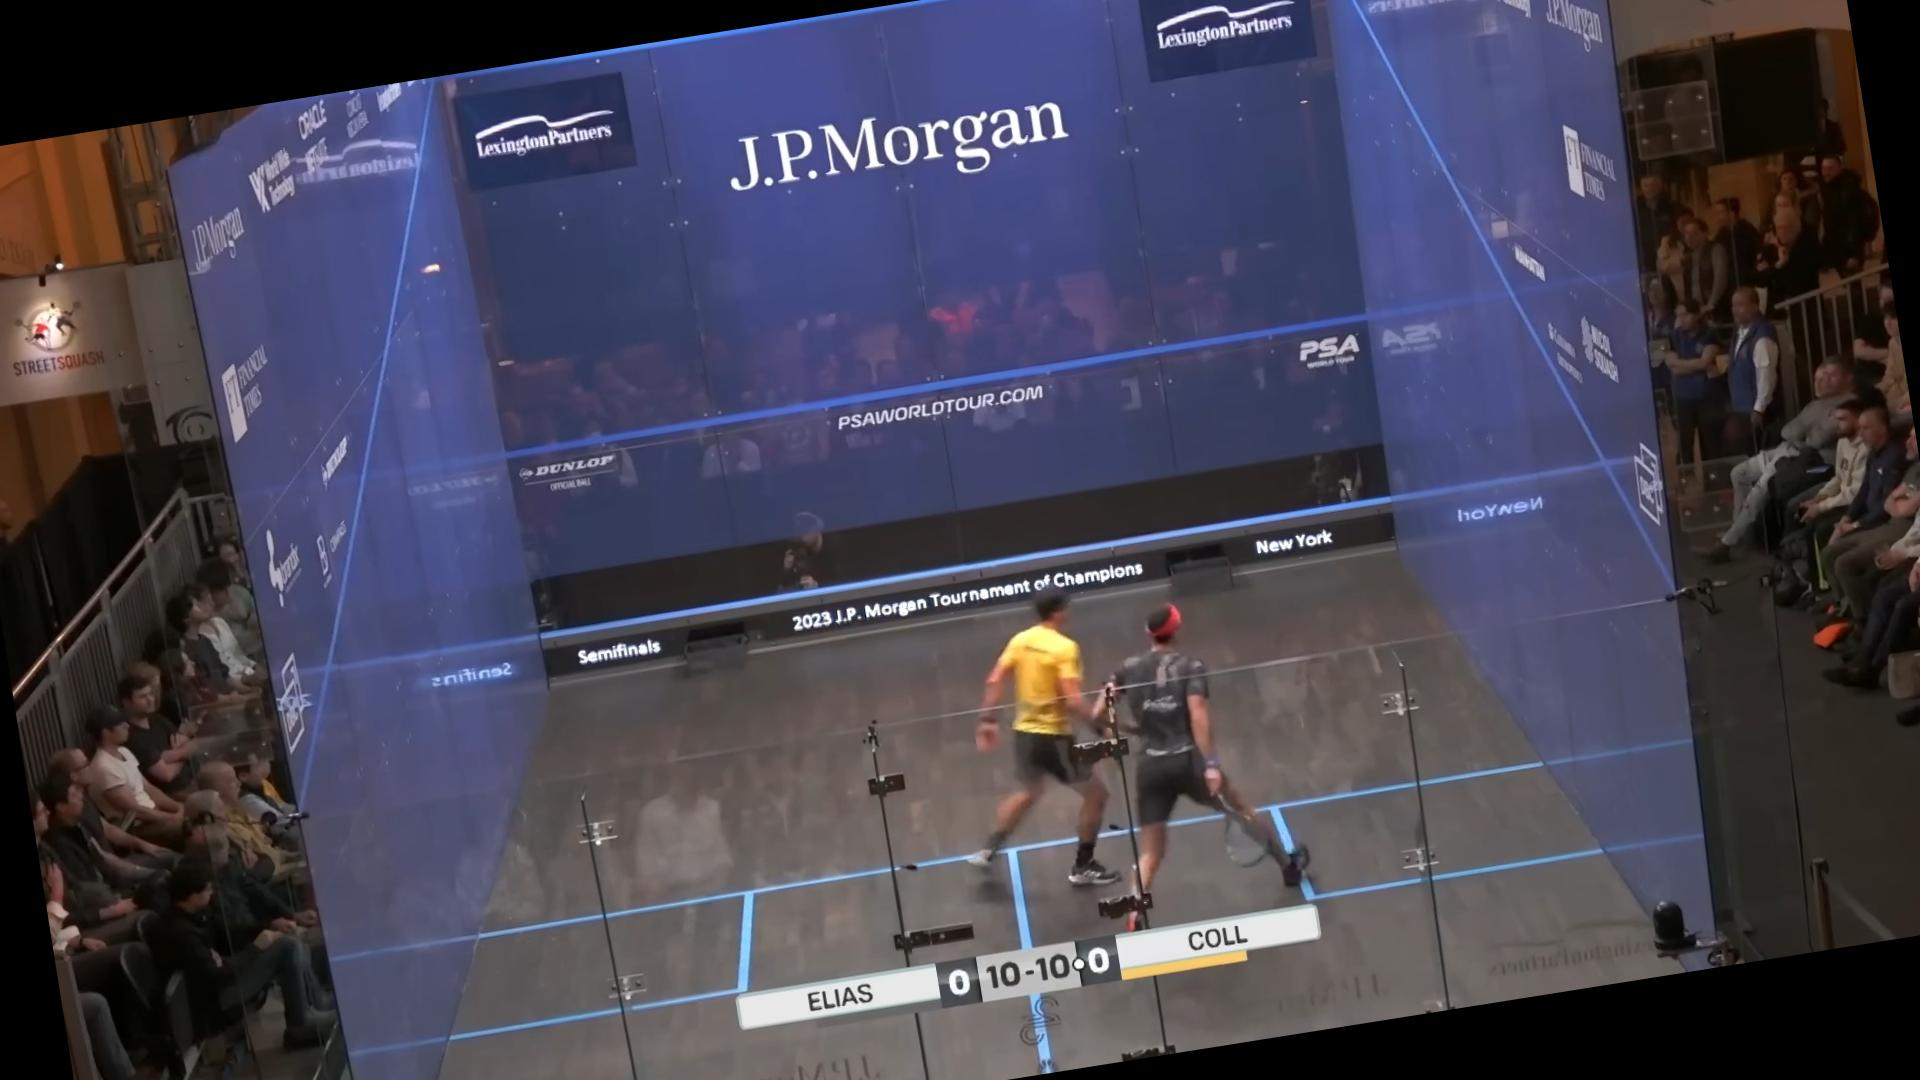Racket: (1208, 790, 1279, 880)
